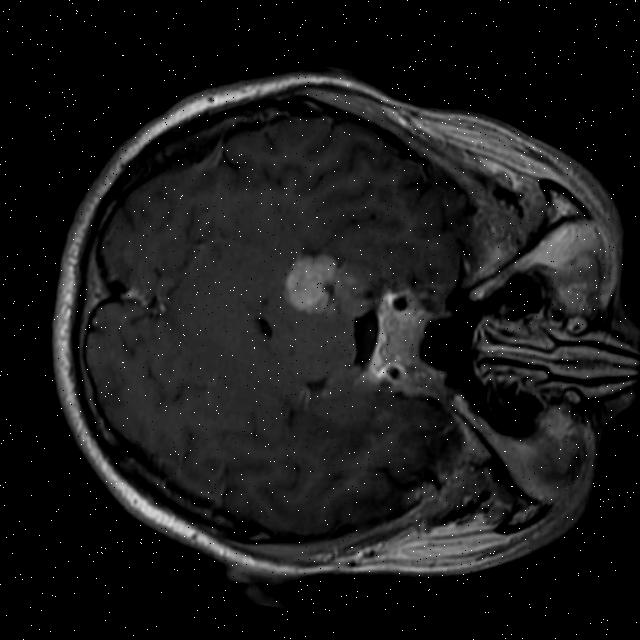Meningioma: (275, 245, 344, 320)
